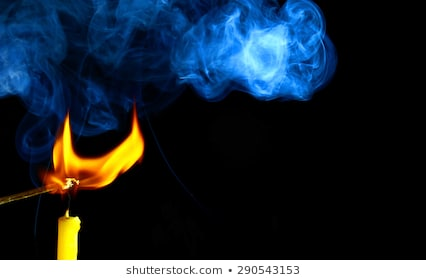Fire: (38, 98, 150, 197)
